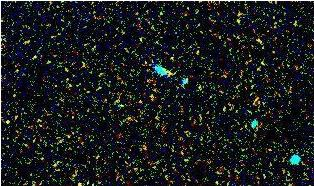star: (0, 107, 20, 137)
